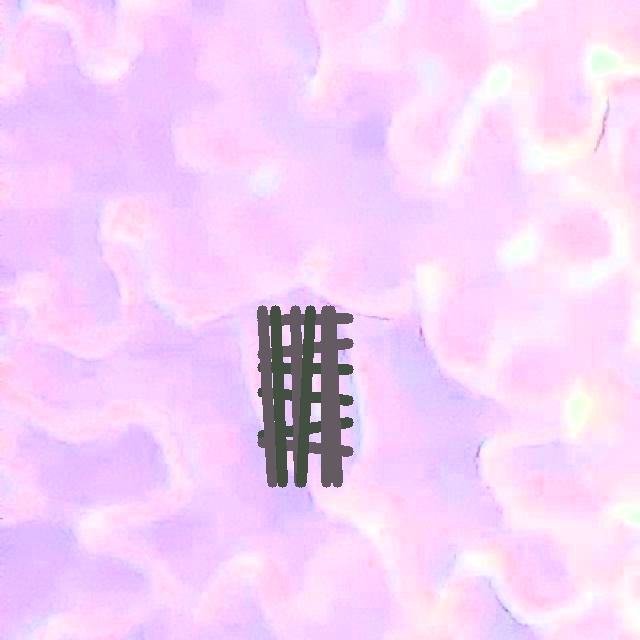open: (258, 305, 352, 487)
